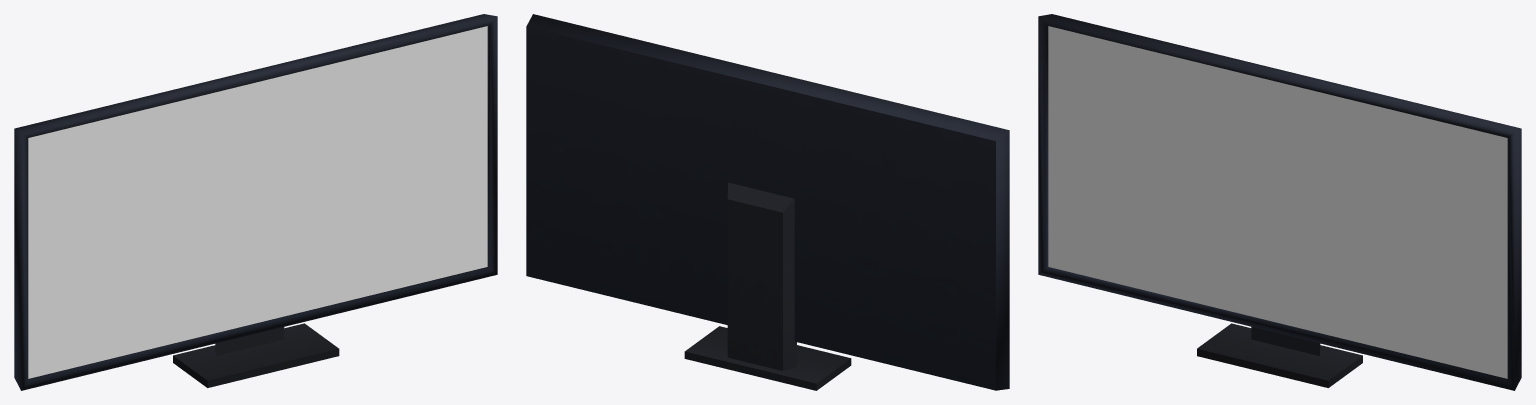
3 renders of one model, left to right at view 1: azimuth 30°, elevation 25°; view 2: azimuth 150°, elevation 25°; view 3: azimuth 330°, elevation 25°, orthographic.
Parts seen in each view (by area): view 1: TV; view 2: TV; view 3: TV.
Part boxes in pixels (box(x1,y1,x2,y2)): TV: box(14, 14, 497, 390); TV: box(526, 14, 1009, 390); TV: box(1038, 14, 1521, 390).
Size of the model in its own units: 53.15 by 30.66 by 6.69.
